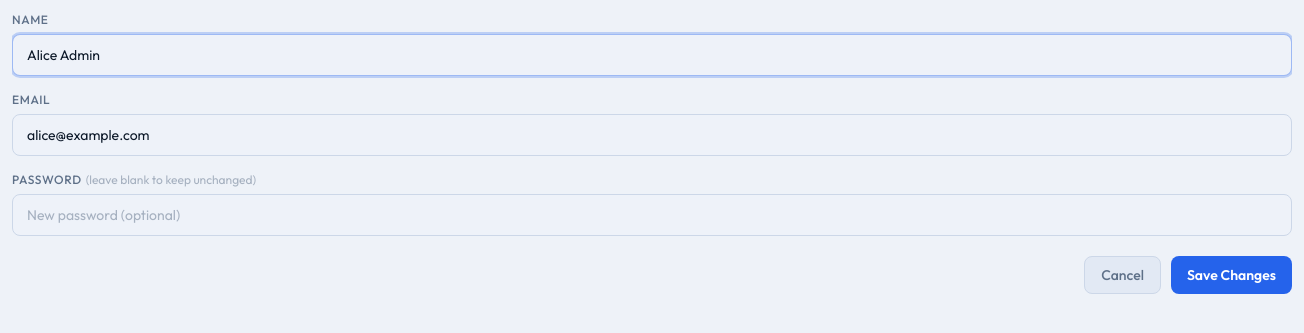
Test case: UserForm — edit mode validation › shows a password error when a non-empty but short password is entered
Type "short" into the password field with placeholder "New password (optional)" at (652, 215), box [12, 194, 1292, 236]
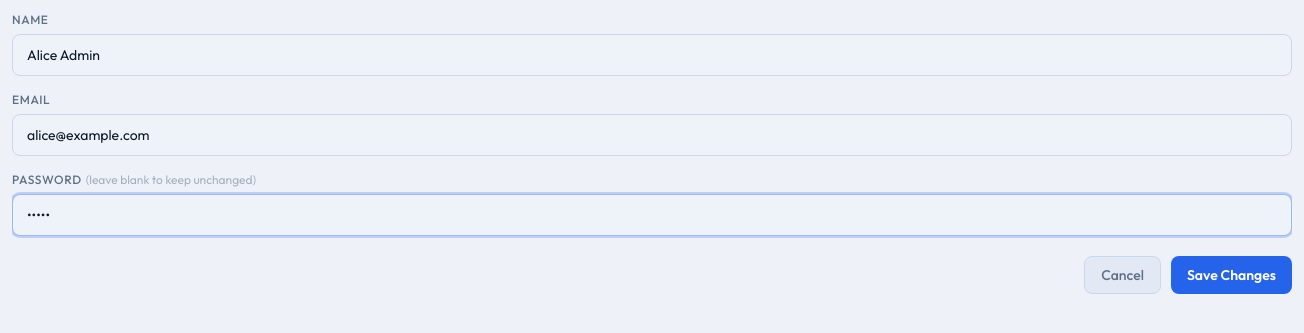
Click the button "Save Changes" at (1232, 275), box [1171, 256, 1292, 294]
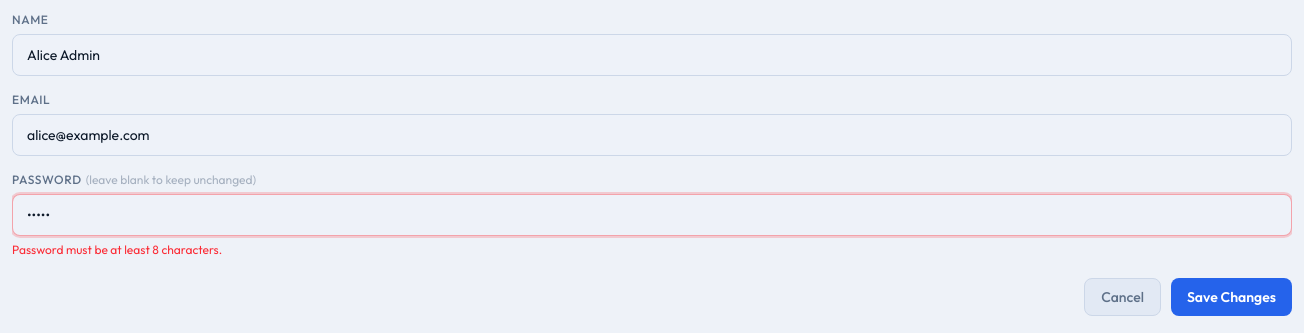
Check: the text "Password must be at least 8 characters." is shown, box [12, 242, 222, 257]
